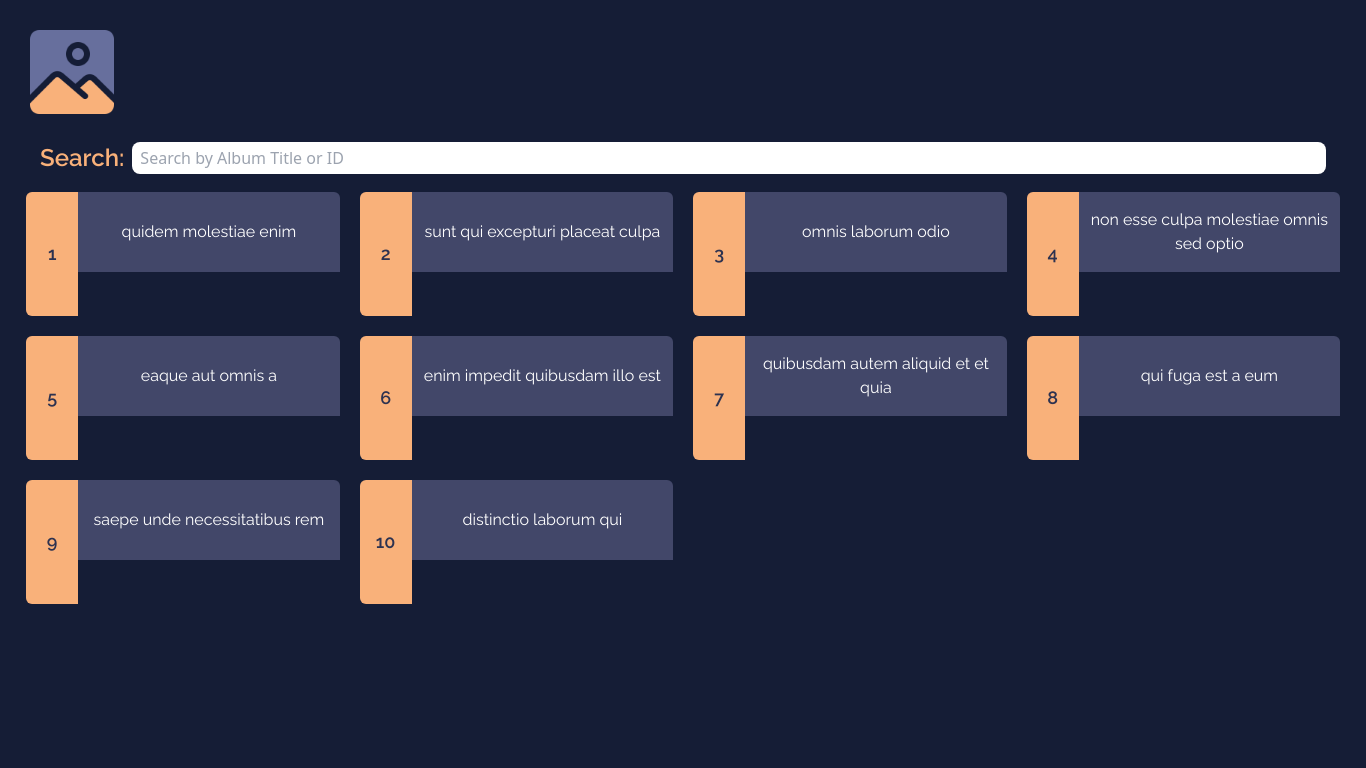
Test: Albums/Landing Page › should allow a user to search by album id
Type "2" into the search field with test id "search-bar".
click(729, 158); type("2")  # box [132,142,1326,174]
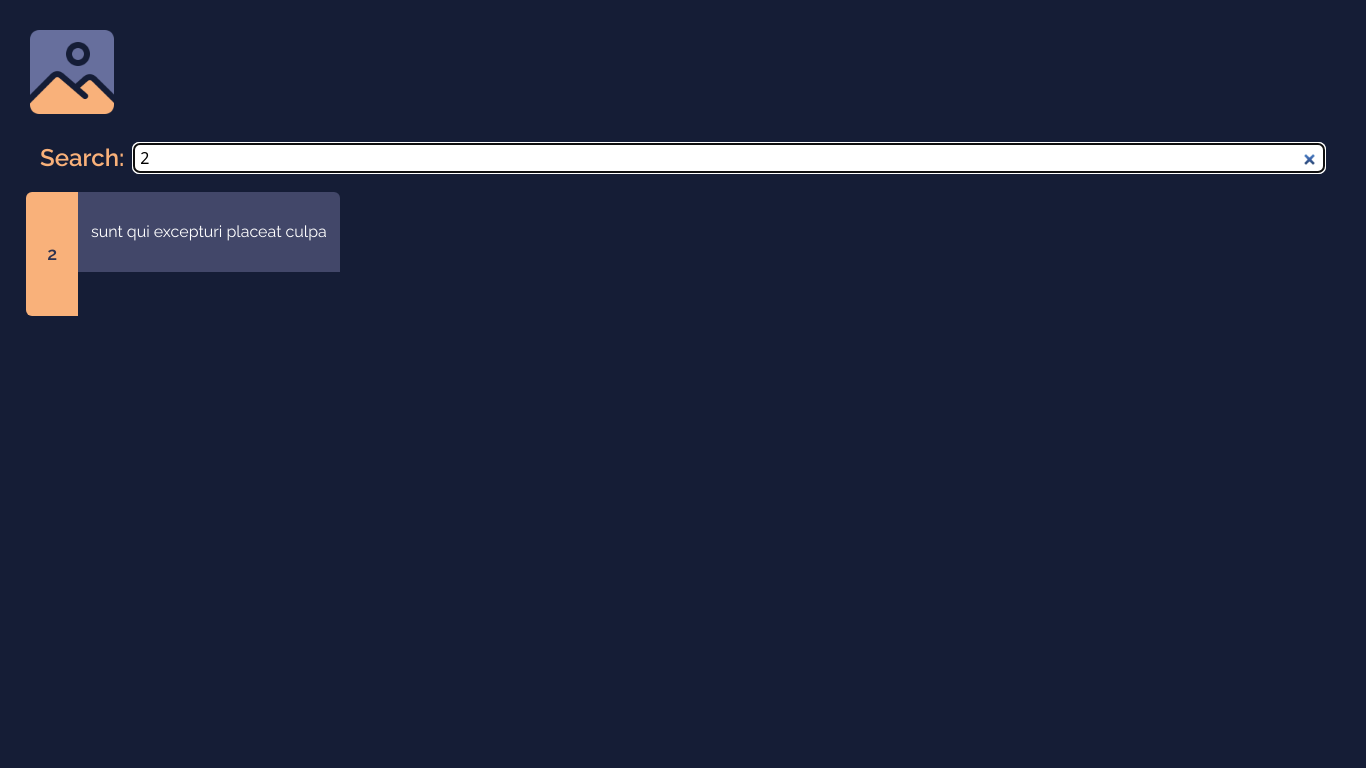
Expected: the text with test id "album-id" reads "2", [47,240,57,268]
Expected: the number of elements with test id "album-id" is 1, [47,240,57,268]
